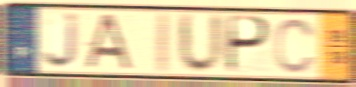A: (80, 13, 136, 72)
C: (273, 16, 318, 75)
I: (153, 10, 172, 76)
J: (42, 10, 80, 71)
P: (224, 13, 272, 76)
U: (176, 11, 227, 77)
